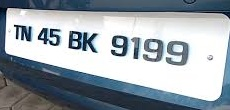numberplate: (4, 6, 229, 102)
